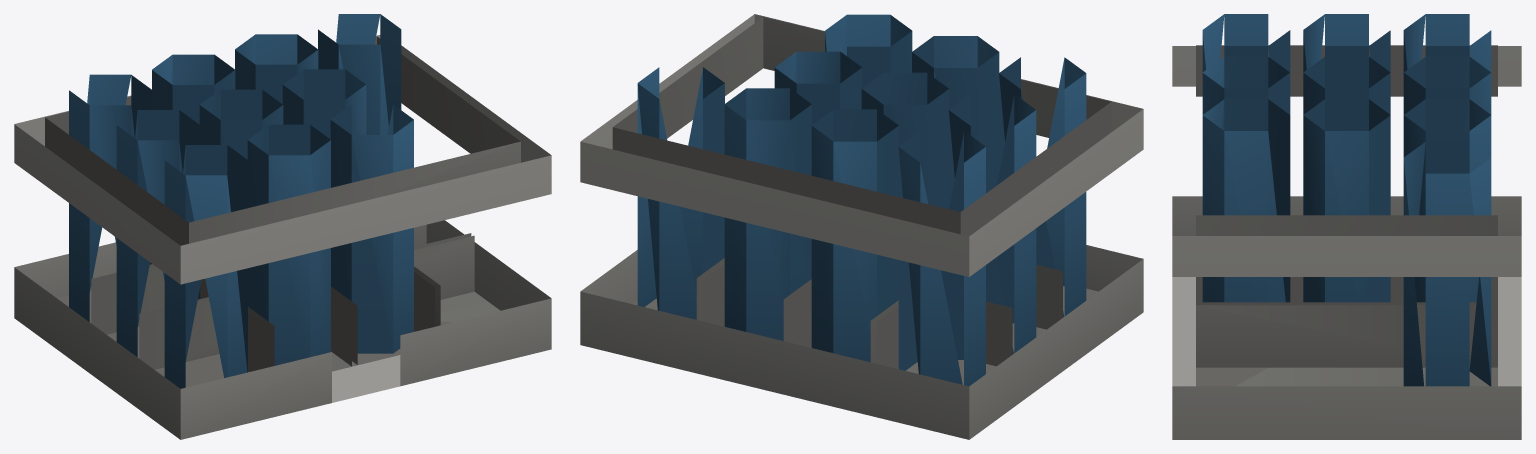
File: crate.lod.glb
The picture shows the model from 3 angles, left to right: view 1: azimuth 30°, elevation 25°; view 2: azimuth 150°, elevation 25°; view 3: azimuth 270°, elevation 25°; orthographic projection. The views are drawn at different scales.
Visible parts, largest first — view 1: crate; view 2: crate; view 3: crate.
Boxes of the visible parts, x1,y1,x2,y2 form: crate: (14,14,551,439); crate: (580,14,1143,439); crate: (1172,14,1521,439).
Bounding box in the file's own units: 0.532 × 0.3276 × 0.413.
